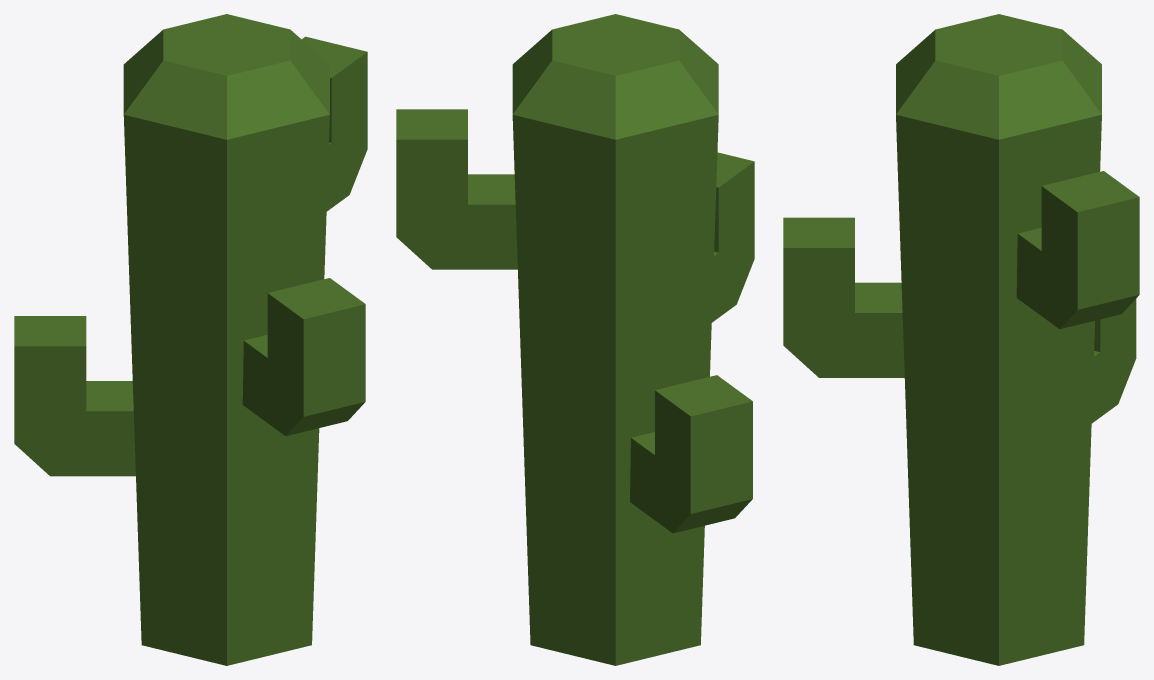
The model's file is cactus_short.glb.
3 renders of one model, left to right at view 1: azimuth 30°, elevation 25°; view 2: azimuth 150°, elevation 25°; view 3: azimuth 270°, elevation 25°, orthographic.
Parts seen in each view (by area): view 1: cactus_short; view 2: cactus_short; view 3: cactus_short.
Boxes of the visible parts, x1,y1,x2,y2 form: cactus_short: (14, 14, 367, 665); cactus_short: (396, 14, 754, 665); cactus_short: (783, 14, 1139, 665).
Size of the model in its own units: 1.02 by 1.6 by 0.8916.
1 material, 1 textured.
